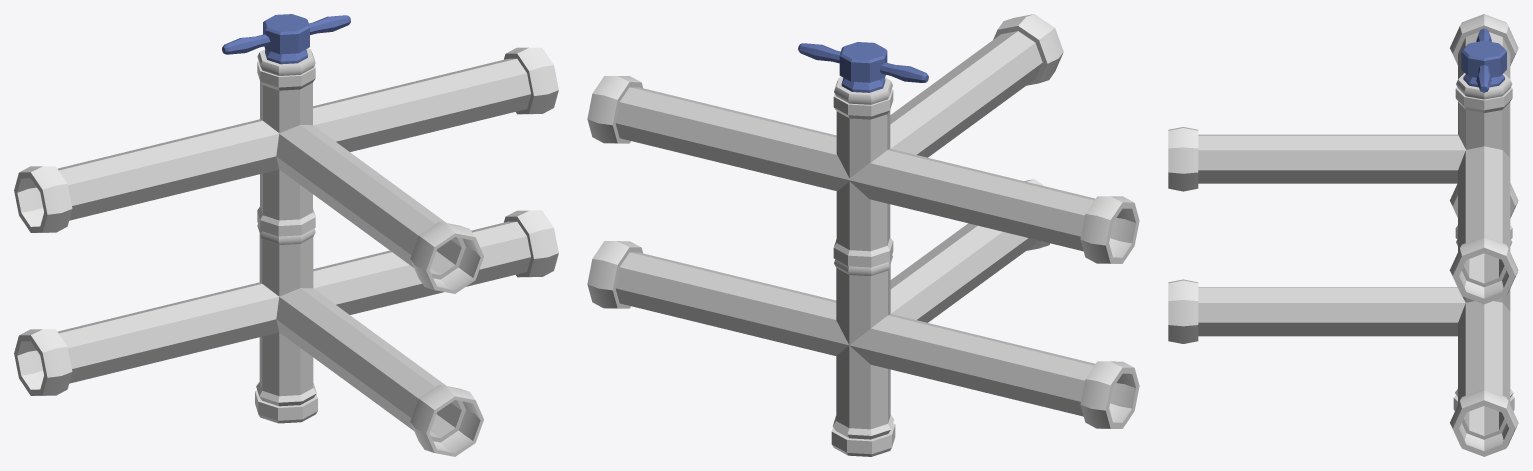
The model's file is Tube_gimmick_L.fbx.
3 renders of one model, left to right at view 1: azimuth 30°, elevation 25°; view 2: azimuth 150°, elevation 25°; view 3: azimuth 270°, elevation 25°, orthographic. The views are drawn at different scales.
Visible parts, largest first — view 1: Tube_gimmick_L; view 2: Tube_gimmick_L; view 3: Tube_gimmick_L.
Boxes of the visible parts, x1,y1,x2,y2 form: Tube_gimmick_L: (14,14,558,456); Tube_gimmick_L: (587,14,1139,456); Tube_gimmick_L: (1168,14,1518,456).
Size of the model in its own units: 318 by 230 by 201.
